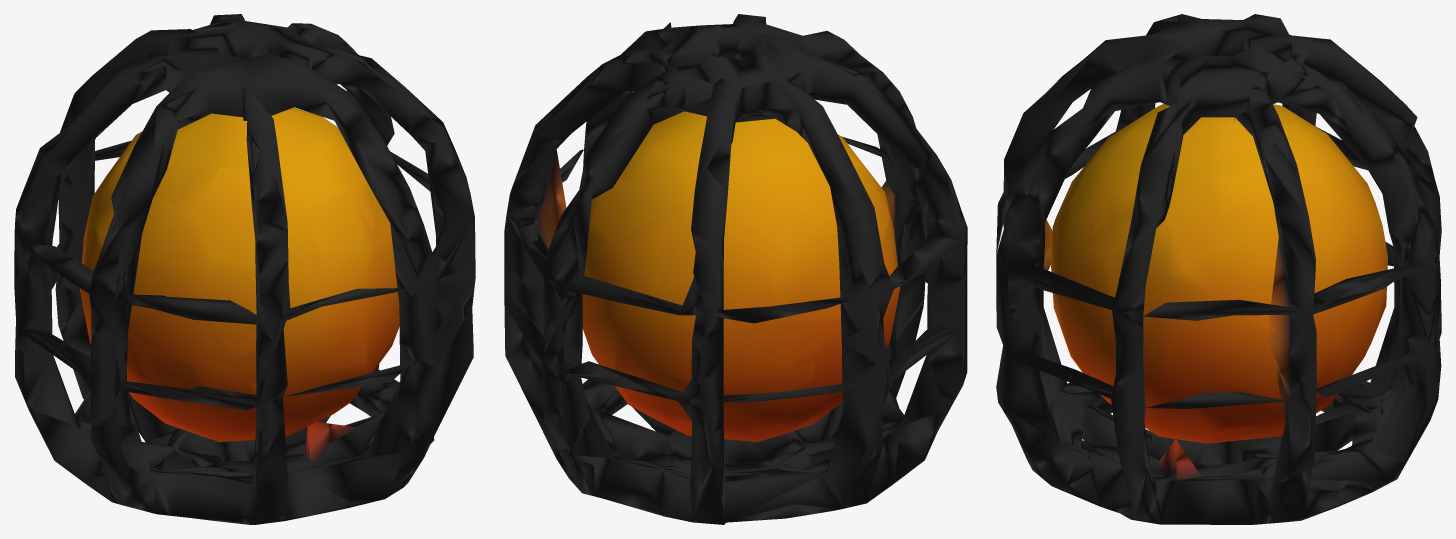
Rendered from gen3d-power-core-lod0.glb.
The picture shows the model from 3 angles, left to right: view 1: azimuth 30°, elevation 25°; view 2: azimuth 150°, elevation 25°; view 3: azimuth 270°, elevation 25°; orthographic projection.
Visible parts, largest first — view 1: part_0; view 2: part_0; view 3: part_0.
Boxes of the visible parts, x1,y1,x2,y2 form: part_0: (14, 14, 475, 524); part_0: (504, 14, 967, 524); part_0: (996, 14, 1441, 524).
Size of the model in its own units: 0.8968 by 0.9999 by 0.897.
